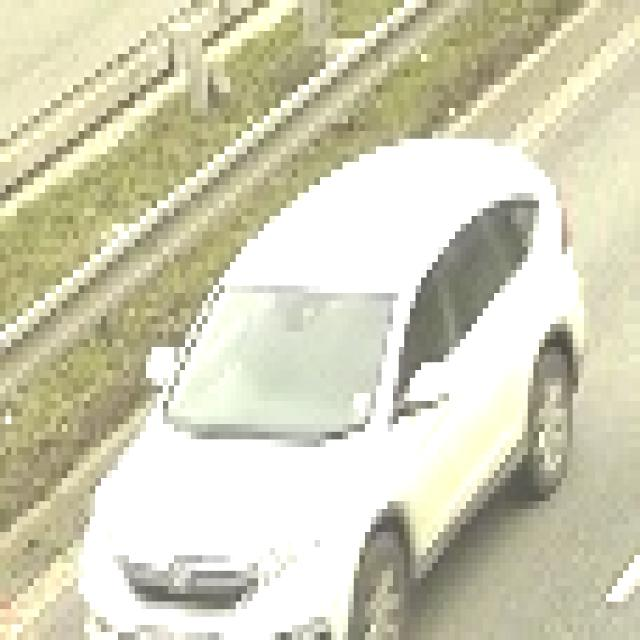SUV: (83, 138, 569, 636)
